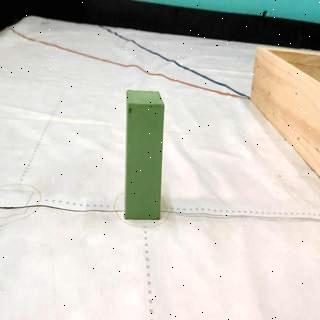greenbox: (124, 88, 164, 222)
